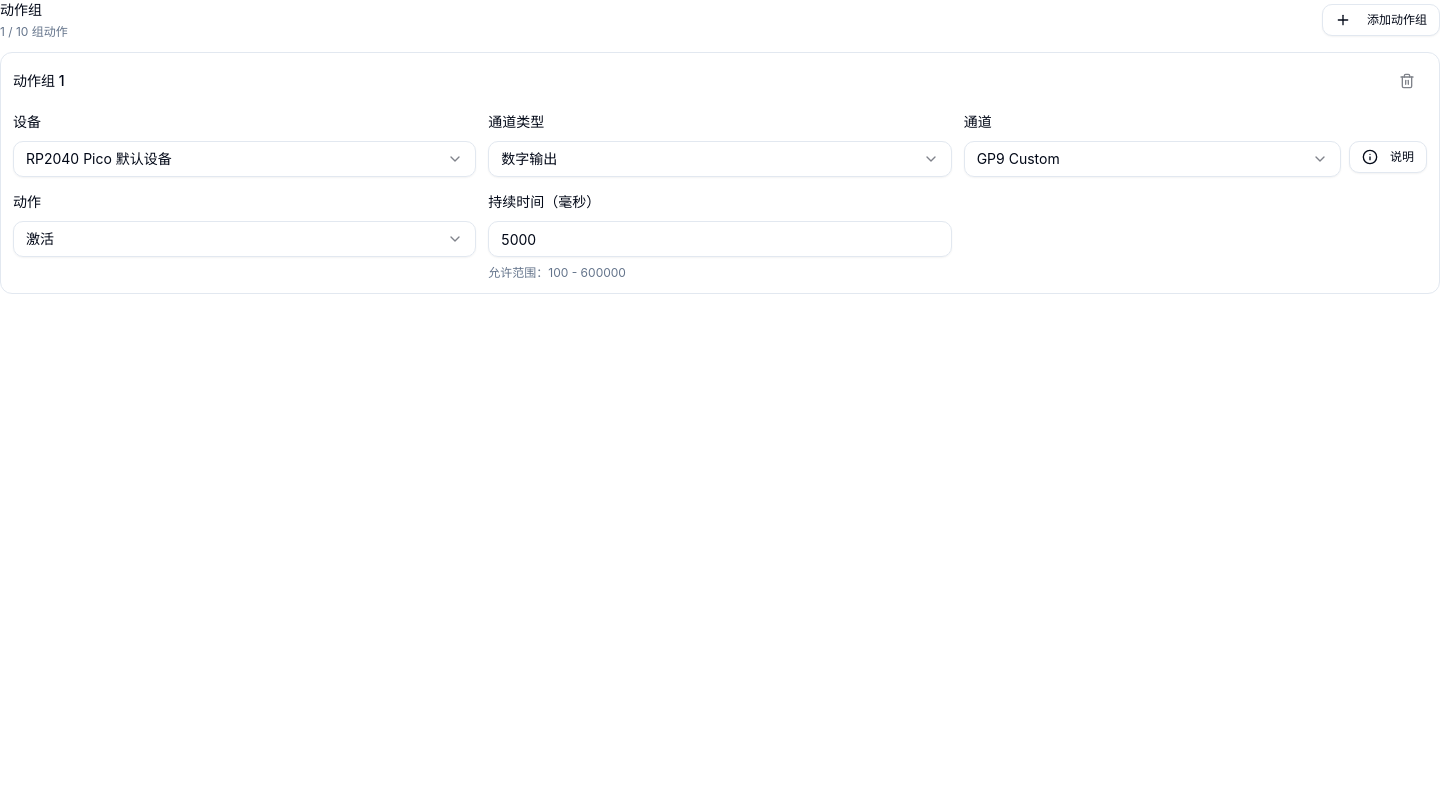
DeviceChannelOutputFields › shows fallback guide for unknown guide id
Click the button with aria-label "查看 GP9 Custom 连接说明": (1388, 157) [1349,141,1427,173]
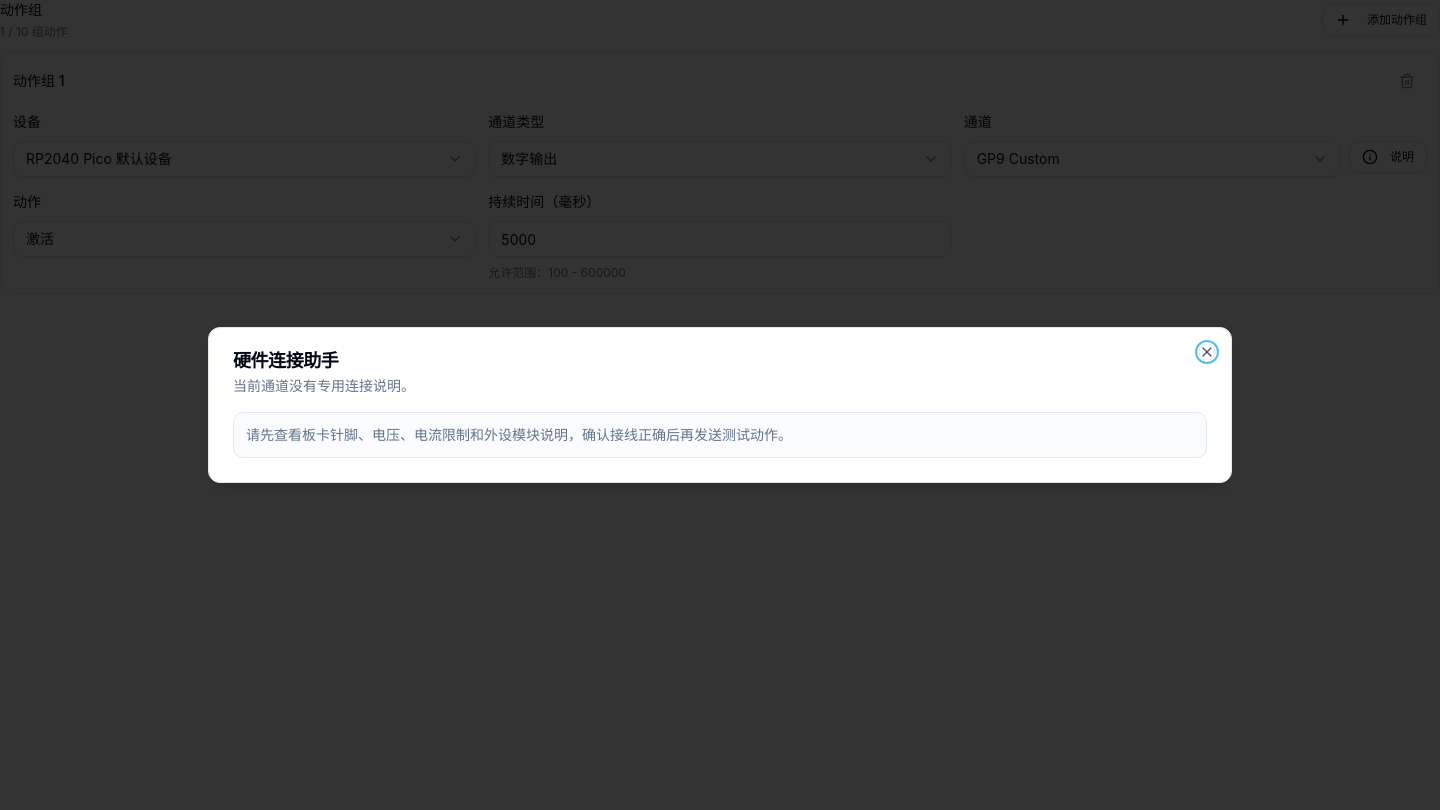
Expected: the dialog "硬件连接助手" is shown, [208,327,1232,483]
Expected: the text "当前通道没有专用连接说明。" is shown, [233,377,415,394]
